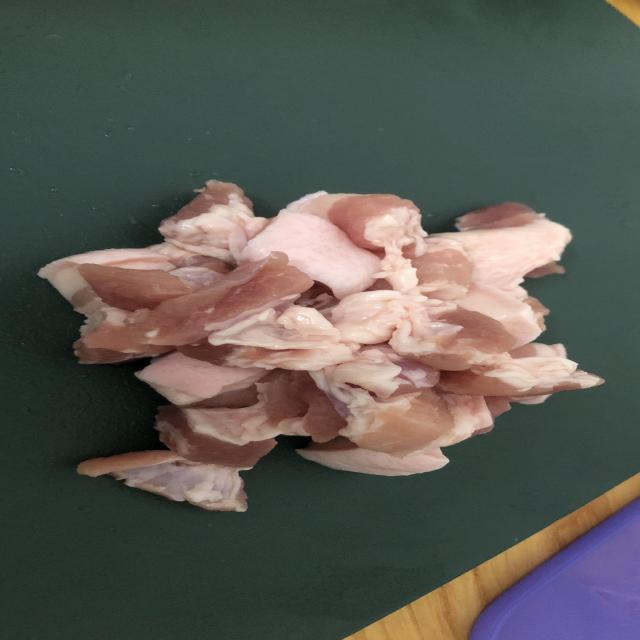chicken: (74, 197, 602, 521)
